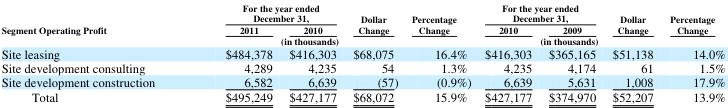table: (0, 0, 724, 104)
table column: (0, 0, 189, 104), (189, 0, 280, 104), (404, 0, 477, 104), (280, 0, 344, 104), (539, 0, 603, 104), (661, 0, 724, 104), (477, 0, 539, 104), (344, 0, 404, 104), (603, 0, 661, 104)
table column header: (0, 0, 724, 45)
table row: (0, 0, 724, 23), (0, 88, 724, 104), (0, 73, 724, 88), (0, 45, 724, 59), (0, 59, 724, 73), (0, 23, 724, 35), (0, 35, 724, 45)
table spanning cell: (0, 0, 189, 45), (189, 0, 344, 23), (404, 0, 477, 45), (477, 0, 603, 23), (661, 0, 724, 45), (189, 35, 404, 45), (344, 0, 404, 35), (603, 0, 661, 35), (477, 35, 661, 45)
